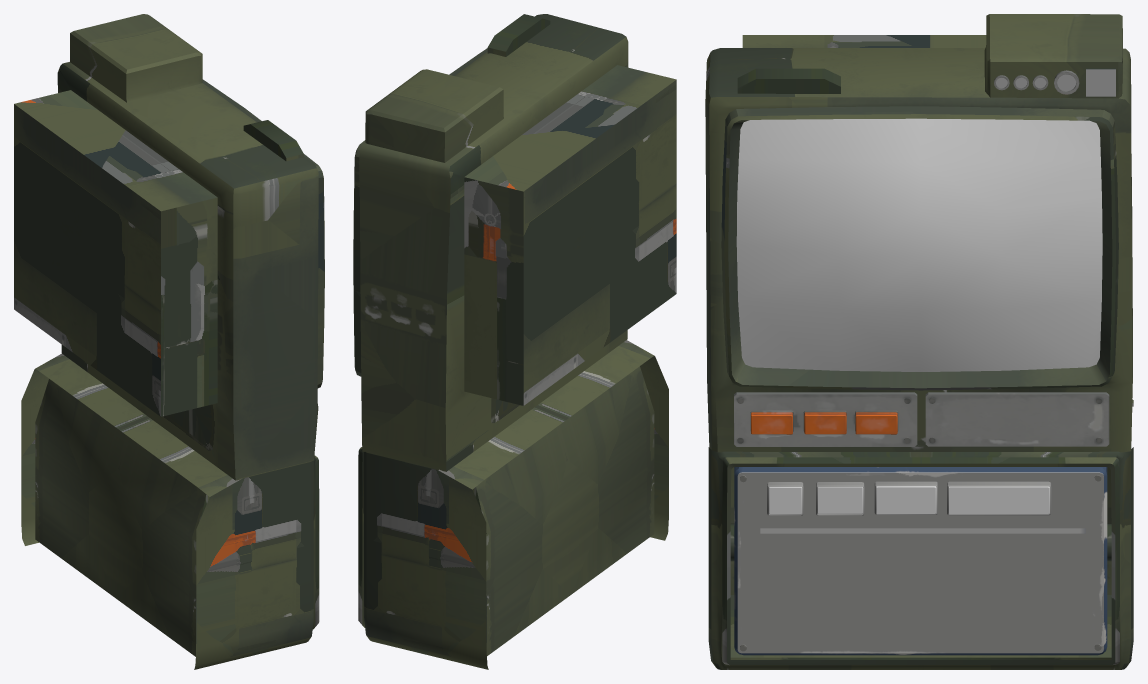
File: CenterConsole_01.fbx
3 views of the same model, side by side, from view 1: azimuth 30°, elevation 25°; view 2: azimuth 150°, elevation 25°; view 3: azimuth 270°, elevation 25° (orthographic). The views are drawn at different scales.
Visible parts, largest first — view 1: centerMonitor_top_v2, centerMonitor_bot_v2; view 2: centerMonitor_top_v2, centerMonitor_bot_v2; view 3: centerMonitor_screen, centerMonitor_top_v2, rotateModule_v2, centerMonitor_bot_v2, blankPlate_v1.002, zoomModule_plate_v1, ID_button_04, ID_connectingLine, ID_button_03, ID_button_02, zoomBtn_v1.01, zoomBtn_v1.03 (+4 smaller).
Part boxes in pixels (x1,y1,x2,y2): centerMonitor_top_v2: (14,14,324,480); centerMonitor_bot_v2: (21,353,319,669); centerMonitor_top_v2: (353,14,676,471); centerMonitor_bot_v2: (358,340,668,669); centerMonitor_screen: (736,118,1102,371); centerMonitor_top_v2: (705,14,1132,452); rotateModule_v2: (734,467,1107,655); centerMonitor_bot_v2: (708,399,1133,669); blankPlate_v1.002: (925,392,1109,446); zoomModule_plate_v1: (734,392,917,446); ID_button_04: (948,486,1049,514); ID_connectingLine: (760,528,1085,533); ID_button_03: (876,486,936,514); ID_button_02: (817,487,863,514); zoomBtn_v1.01: (804,412,846,434); zoomBtn_v1.03: (855,412,897,434).
Size of the model in its own units: 2.13 by 6.22 by 3.93.
